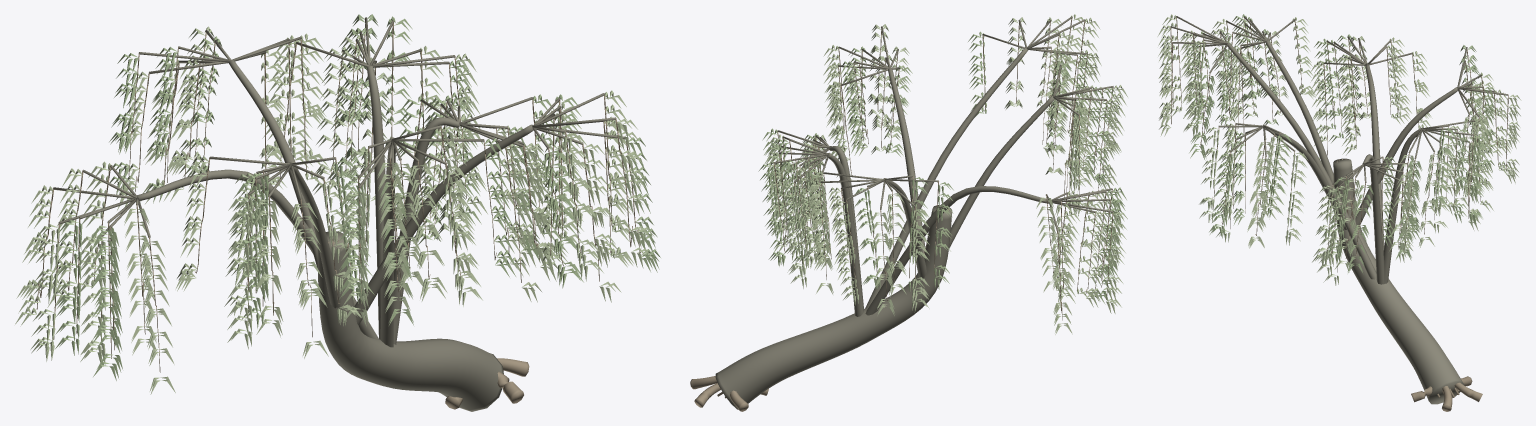
File: grove-willow-9.glb
The picture shows the model from 3 angles, left to right: view 1: azimuth 30°, elevation 25°; view 2: azimuth 150°, elevation 25°; view 3: azimuth 270°, elevation 25°; orthographic projection. The views are drawn at different scales.
Parts seen in each view (by area): view 1: grove-willow-9; view 2: grove-willow-9; view 3: grove-willow-9.
Part boxes in pixels (x1=…): grove-willow-9: x1=15, y1=14, x2=660, y2=411; grove-willow-9: x1=690, y1=14, x2=1127, y2=411; grove-willow-9: x1=1157, y1=14, x2=1521, y2=411.
Size of the model in its own units: 8.43 by 6.91 by 7.62.
